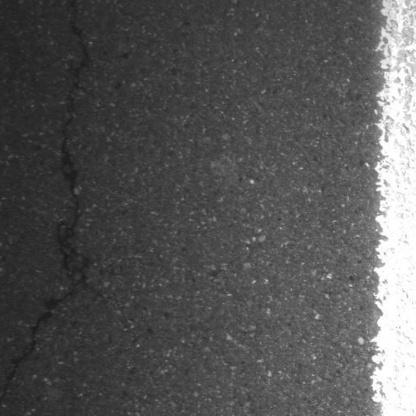Cracks: (0, 0, 96, 409)
